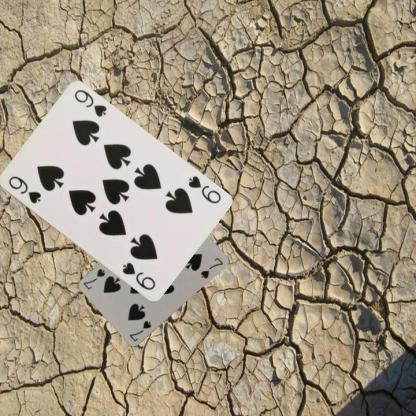7s: (126, 318, 152, 343)
9s: (5, 173, 42, 205), (185, 173, 222, 205)
